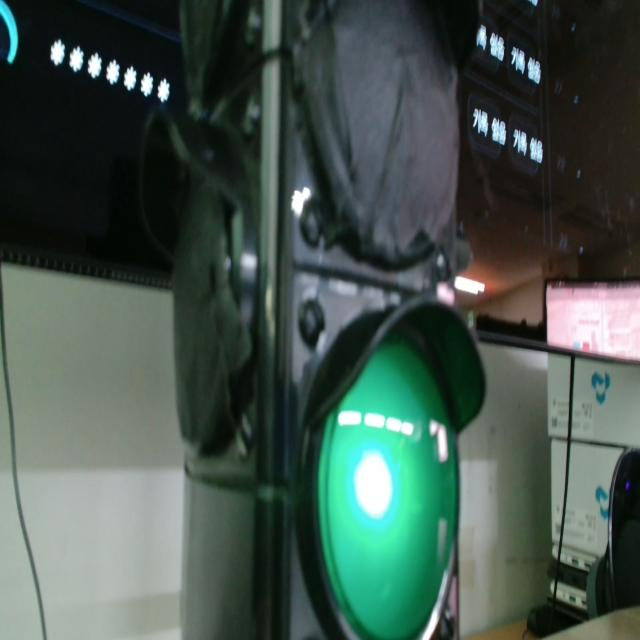green_light: (318, 337, 458, 639), (354, 451, 392, 519)
